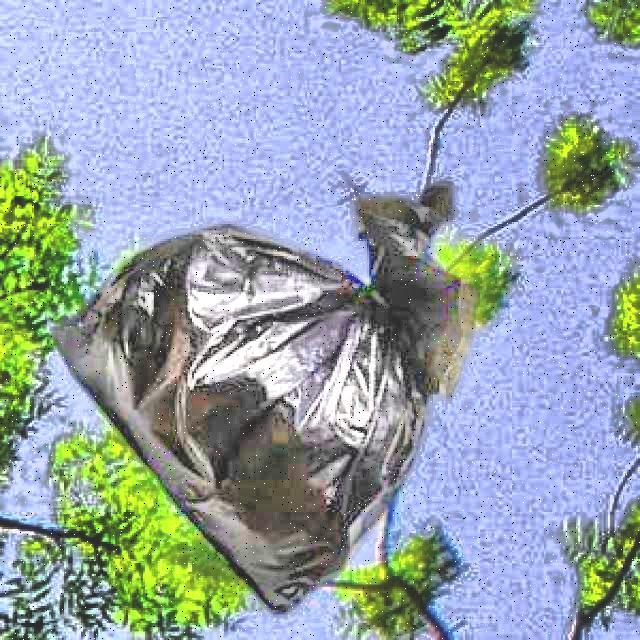Trashbag: (129, 247, 413, 554)
